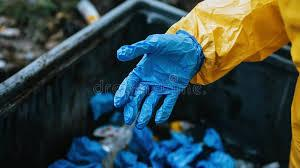Glove: (114, 30, 203, 127)
